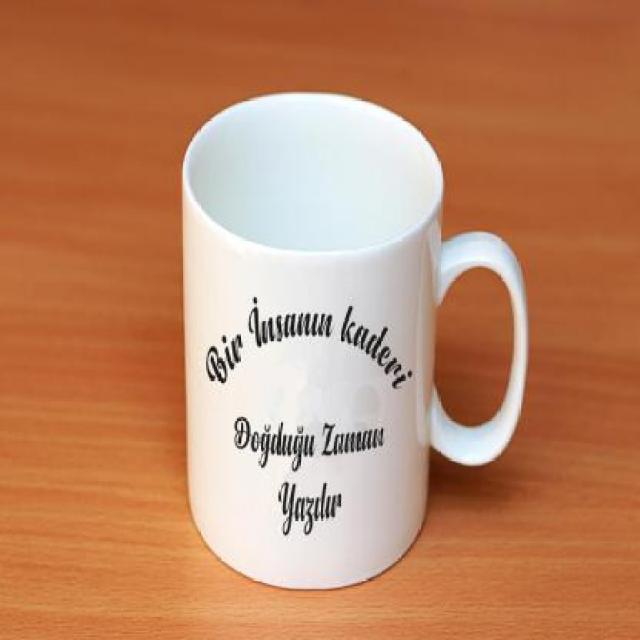taza: (181, 90, 530, 590)
